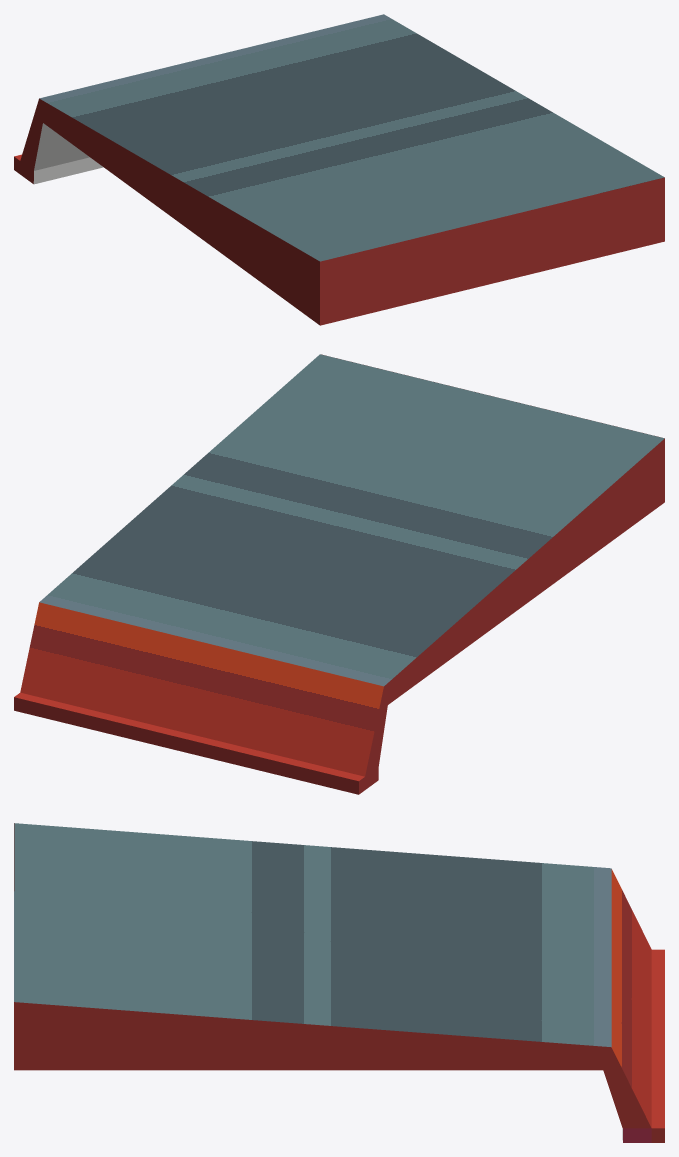
The model's file is gc220ii_roof.obj.
3 renders of one model, top to bottom at view 1: azimuth 30°, elevation 25°; view 2: azimuth 150°, elevation 25°; view 3: azimuth 270°, elevation 25°, orthographic. The views are drawn at different scales.
Visible parts, largest first — view 1: gc220ii_roof; view 2: gc220ii_roof; view 3: gc220ii_roof.
Part boxes in pixels (<box>): gc220ii_roof: <box>14,14,664,325</box>; gc220ii_roof: <box>14,354,664,794</box>; gc220ii_roof: <box>14,823,664,1142</box>.
Bounding box in the file's own units: 1 × 0.367 × 1.54.
